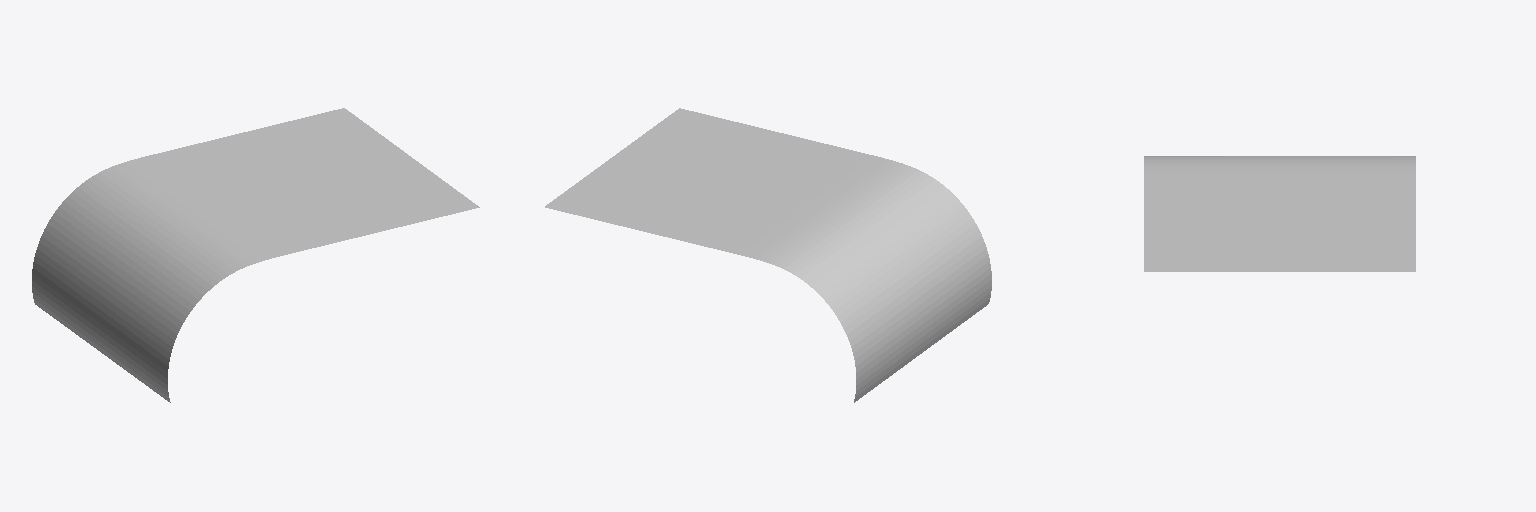
File: CurvePaper_000053.obj
The picture shows the model from 3 angles: view 1: azimuth 30°, elevation 25°; view 2: azimuth 150°, elevation 25°; view 3: azimuth 270°, elevation 25°; orthographic projection.
Visible parts, largest first — view 1: Plane; view 2: Plane; view 3: Plane.
Part boxes in pixels (bbox=[...]): Plane: bbox=[32, 108, 479, 402]; Plane: bbox=[545, 108, 991, 402]; Plane: bbox=[1144, 156, 1415, 271].
Bounding box in the file's own units: 3.01 × 1.11 × 2.26.